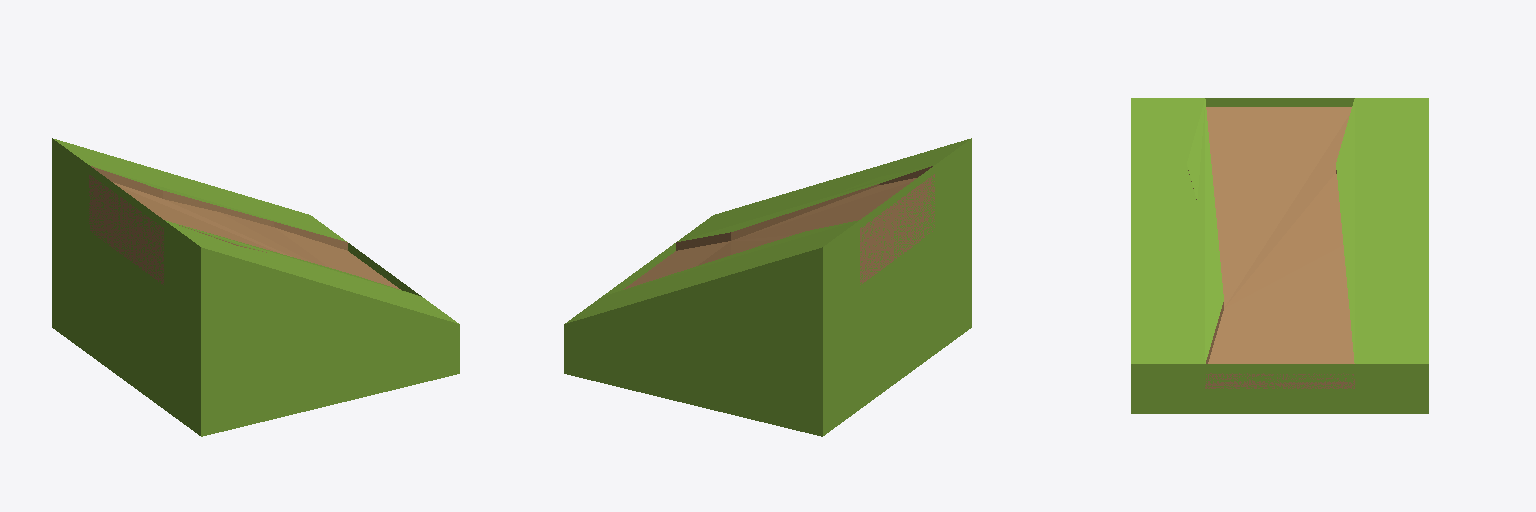
3 views of the same model, side by side, from view 1: azimuth 30°, elevation 25°; view 2: azimuth 150°, elevation 25°; view 3: azimuth 270°, elevation 25° (orthographic).
Parts seen in each view (by area): view 1: roadTile_018.001; view 2: roadTile_018.001; view 3: roadTile_018.001.
Part boxes in pixels (x1,y1,x2,y2): roadTile_018.001: (52,138,459,436); roadTile_018.001: (564,138,971,436); roadTile_018.001: (1131,98,1428,413).
Bounding box in the file's own units: 3 × 2.1 × 3.